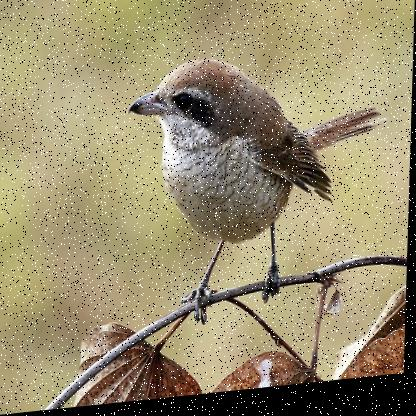Burung: (122, 46, 386, 303)
